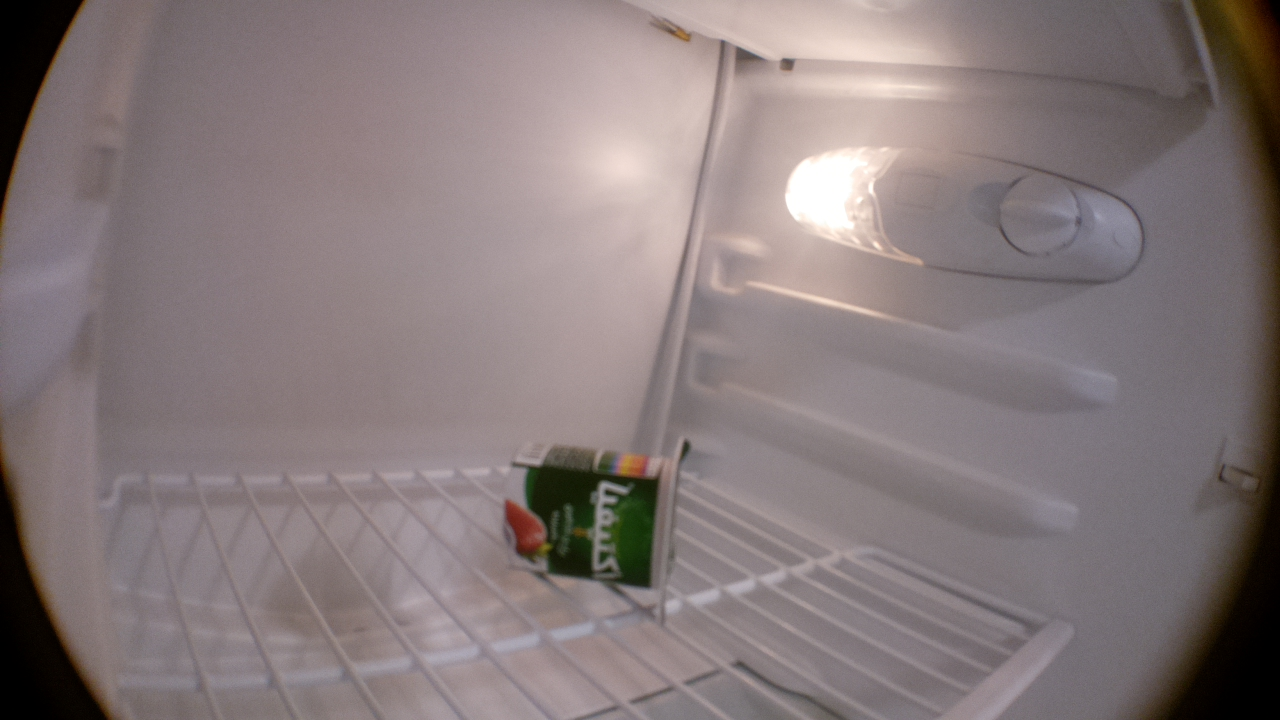yoghurt: (500, 431, 689, 632)
